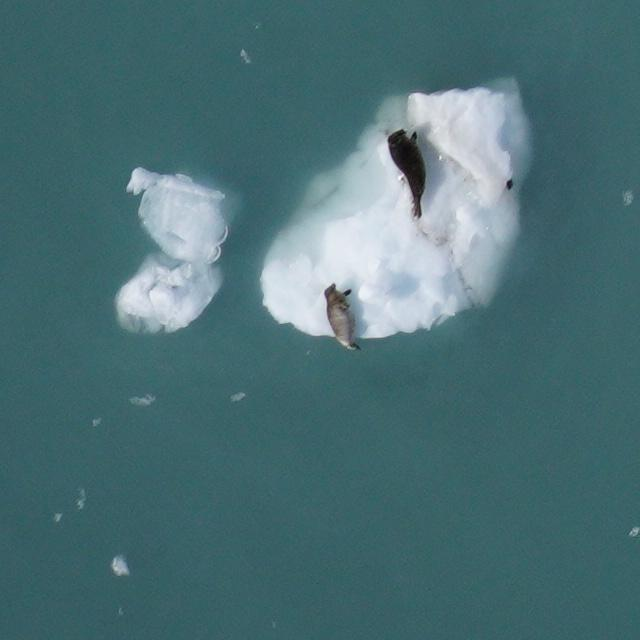seal: (387, 128, 427, 221), (324, 283, 360, 350)
